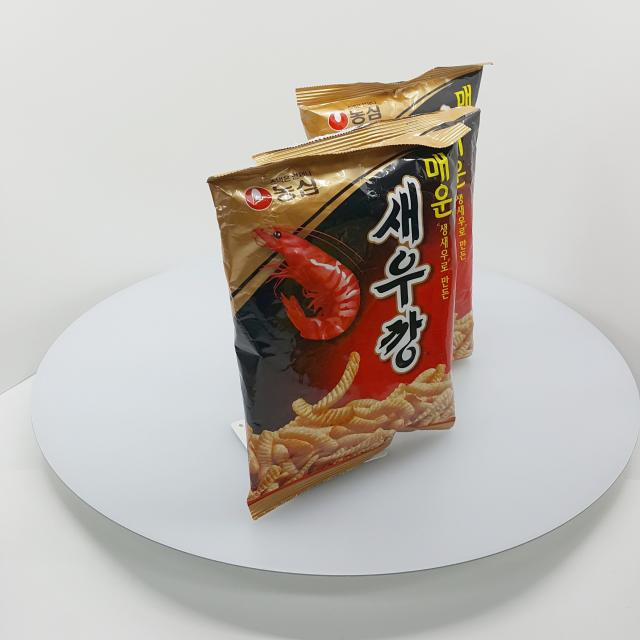-90G: (207, 123, 473, 522)
